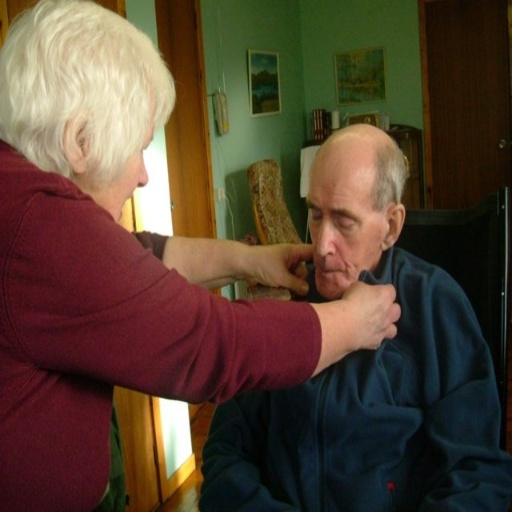hand: (344, 281, 403, 352), (248, 242, 316, 299)
